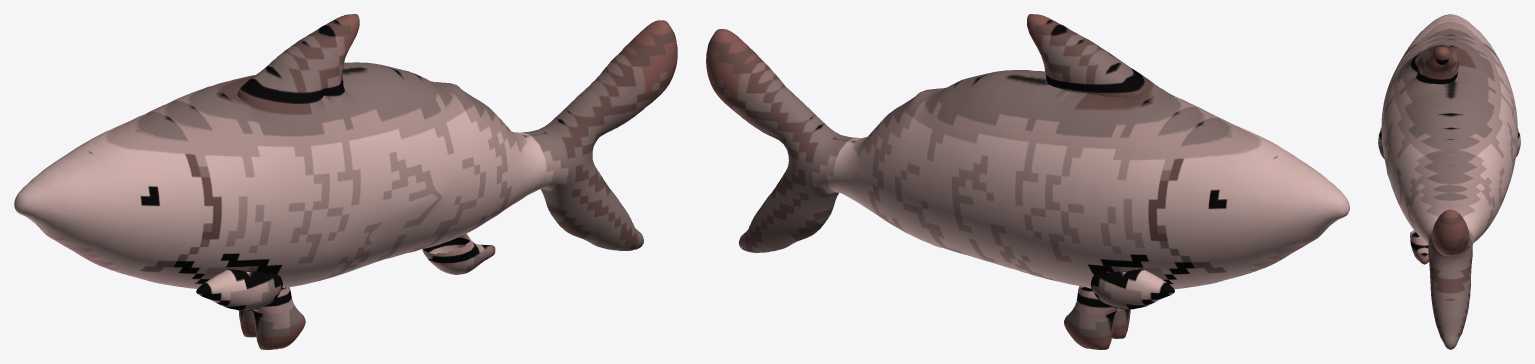
The model's file is realer cod 3D.fbx.
3 renders of one model, left to right at view 1: azimuth 30°, elevation 25°; view 2: azimuth 150°, elevation 25°; view 3: azimuth 270°, elevation 25°, orthographic. The views are drawn at different scales.
Visible parts, largest first — view 1: Mesh_0.002; view 2: Mesh_0.002; view 3: Mesh_0.002.
Boxes of the visible parts, left/top/right/bottom form: Mesh_0.002: left=14, top=14, right=677, bottom=349; Mesh_0.002: left=706, top=14, right=1349, bottom=349; Mesh_0.002: left=1378, top=14, right=1520, bottom=349.
Size of the model in its own units: 915 by 417 by 258.
1 material, 1 textured.
